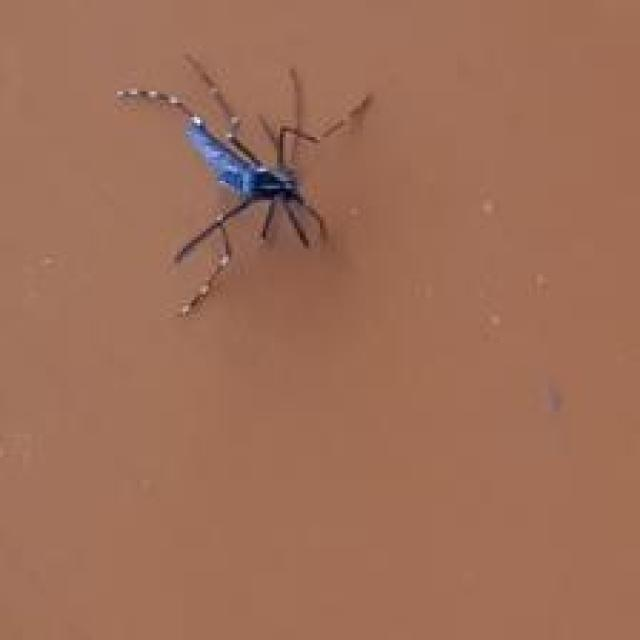Aedes albopictus: (113, 50, 376, 319)
